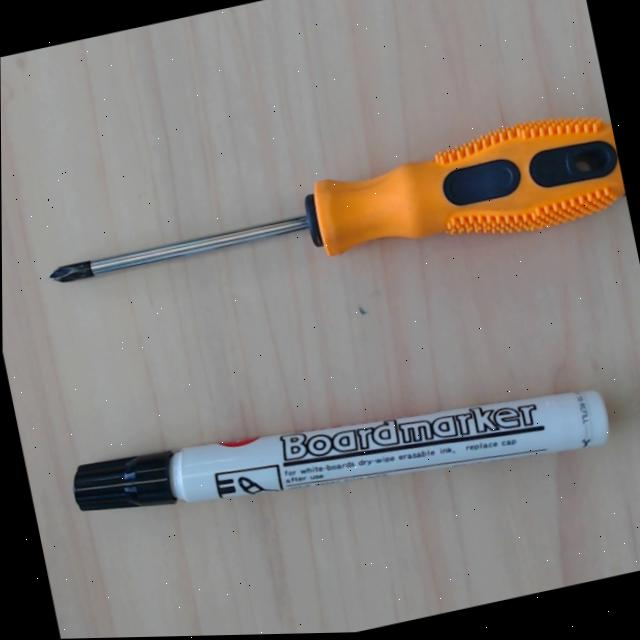Marker-Pen: (70, 387, 611, 517)
Obeng-Besar: (39, 105, 629, 325)
